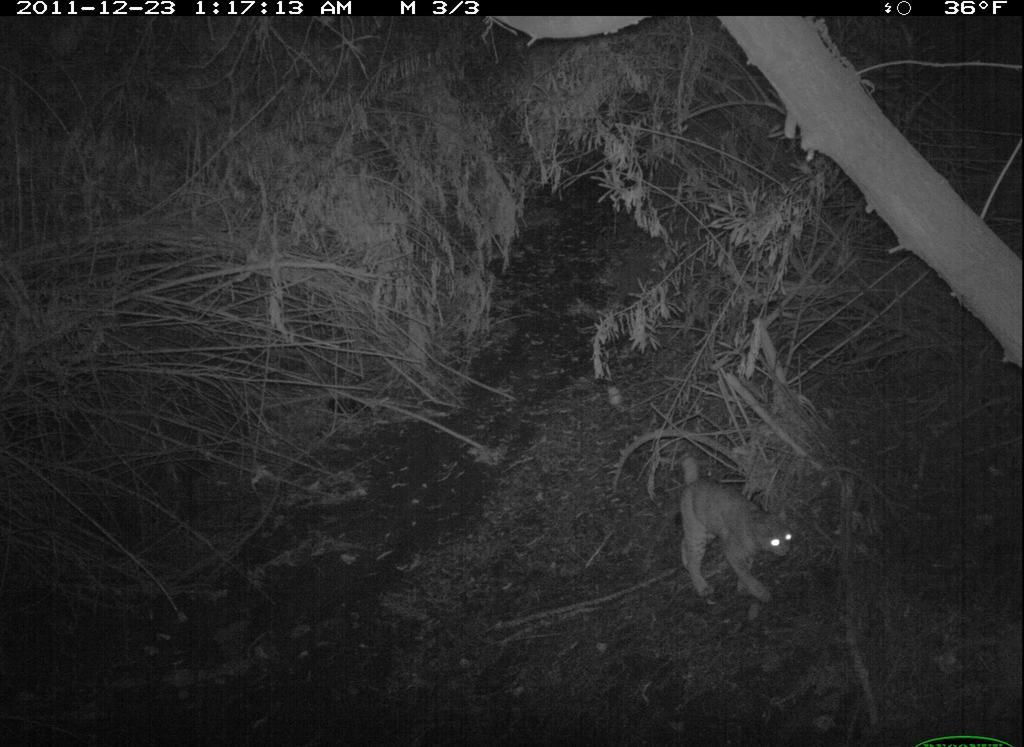bobcat: (669, 450, 802, 611)
